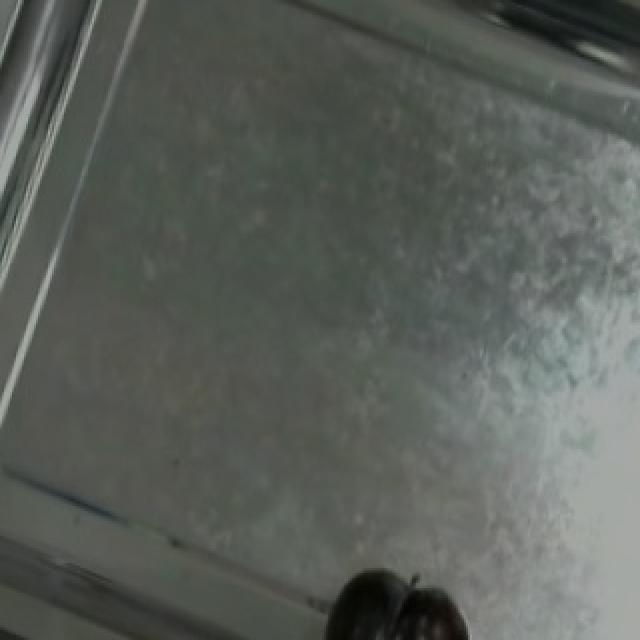Fruit: (308, 558, 488, 640), (378, 575, 484, 640)
